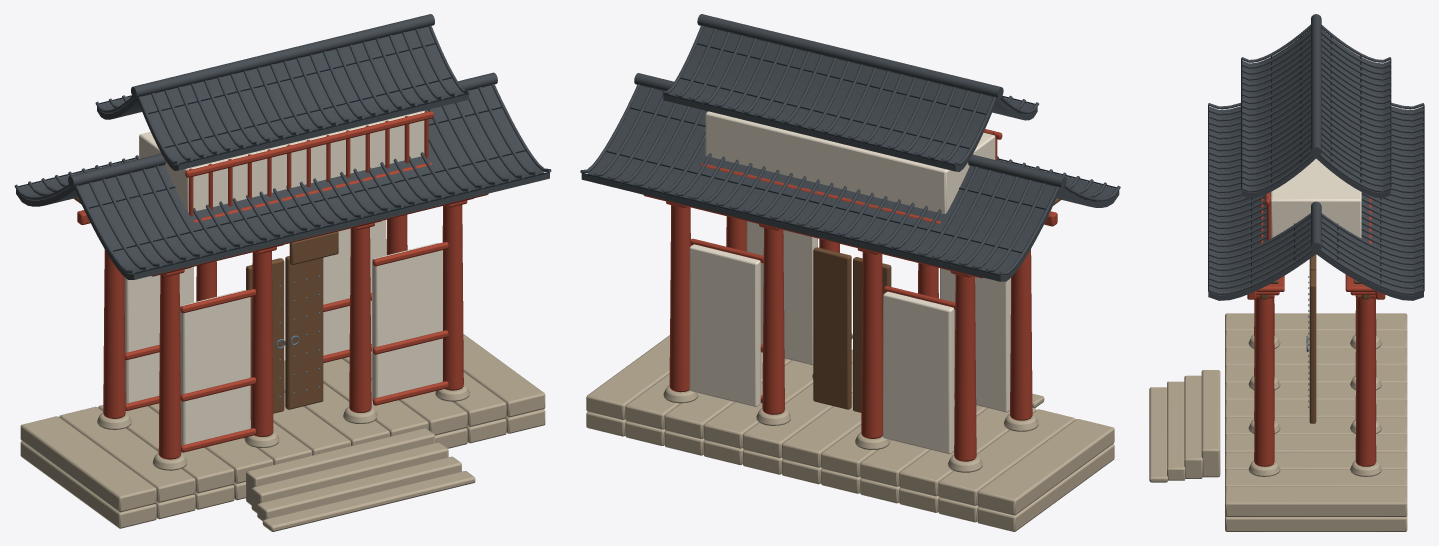
The model's file is suzaku_gate.glb.
3 views of the same model, side by side, from view 1: azimuth 30°, elevation 25°; view 2: azimuth 150°, elevation 25°; view 3: azimuth 270°, elevation 25° (orthographic). The views are drawn at different scales.
Parts seen in each view (by area): view 1: Detail.suzaku_gate.Tile, Detail.suzaku_gate.Stone, Detail.suzaku_gate.Ivory, Detail.suzaku_gate.Red, Detail.suzaku_gate.Wood, Detail.suzaku_gate.Dark; view 2: Detail.suzaku_gate.Tile, Detail.suzaku_gate.Ivory, Detail.suzaku_gate.Stone, Detail.suzaku_gate.Red, Detail.suzaku_gate.Wood, Detail.suzaku_gate.Dark; view 3: Detail.suzaku_gate.Tile, Detail.suzaku_gate.Stone, Detail.suzaku_gate.Red, Detail.suzaku_gate.Ivory, Detail.suzaku_gate.Dark, Detail.suzaku_gate.Wood.
Boxes of the visible parts, x1,y1,x2,y2 form: Detail.suzaku_gate.Tile: (14,14,551,279); Detail.suzaku_gate.Stone: (20,334,545,531); Detail.suzaku_gate.Ivory: (124,110,442,445); Detail.suzaku_gate.Red: (77,111,488,459); Detail.suzaku_gate.Wood: (74,197,338,418); Detail.suzaku_gate.Dark: (18,43,549,273); Detail.suzaku_gate.Tile: (580,14,1120,281); Detail.suzaku_gate.Ivory: (689,111,1010,454); Detail.suzaku_gate.Stone: (586,335,1114,531); Detail.suzaku_gate.Red: (643,129,1057,461); Detail.suzaku_gate.Wood: (813,198,1060,412); Detail.suzaku_gate.Dark: (581,43,1116,275); Detail.suzaku_gate.Tile: (1208,14,1424,300); Detail.suzaku_gate.Stone: (1149,313,1407,531); Detail.suzaku_gate.Red: (1247,192,1385,466); Detail.suzaku_gate.Ivory: (1270,158,1361,238); Detail.suzaku_gate.Dark: (1208,36,1424,291); Detail.suzaku_gate.Wood: (1260,254,1369,423).
Bounding box in the file's own units: 10.87 × 9.51 × 6.64.
